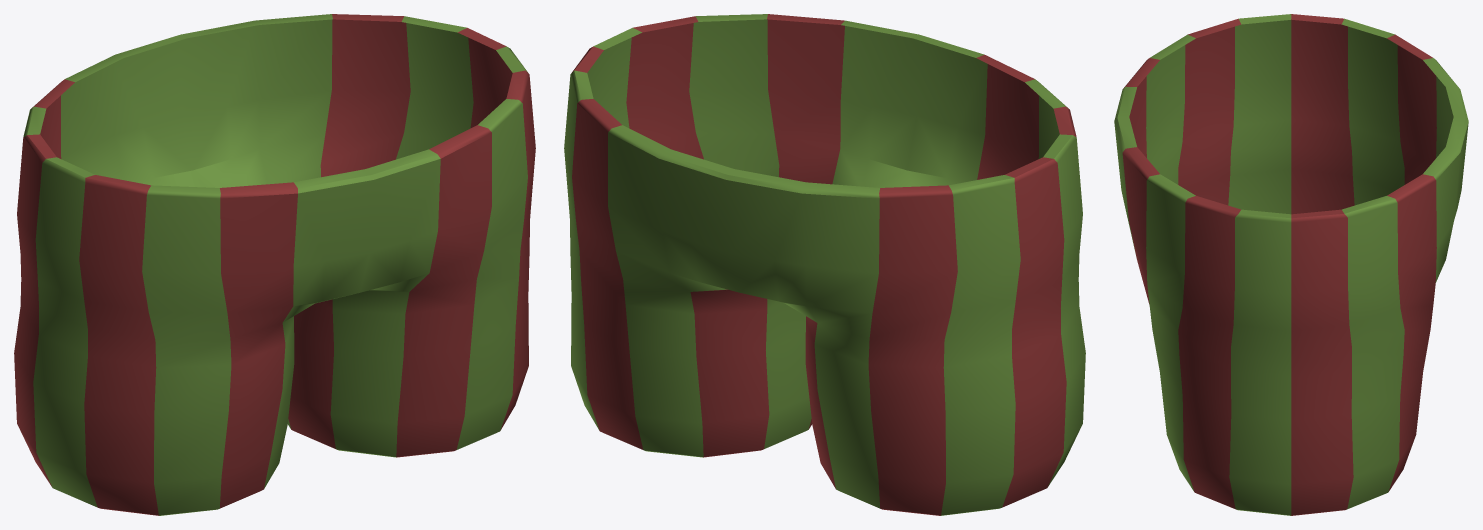
Rendered from Shorts_Striped_01_mesh.fbx.
3 renders of one model, left to right at view 1: azimuth 30°, elevation 25°; view 2: azimuth 150°, elevation 25°; view 3: azimuth 270°, elevation 25°, orthographic. The views are drawn at different scales.
Parts seen in each view (by area): view 1: Shorts_Striped_01_mesh; view 2: Shorts_Striped_01_mesh; view 3: Shorts_Striped_01_mesh.
Part boxes in pixels (x1,y1,x2,y2): Shorts_Striped_01_mesh: [14, 14, 535, 515]; Shorts_Striped_01_mesh: [564, 14, 1085, 515]; Shorts_Striped_01_mesh: [1114, 14, 1468, 515].
Size of the model in its own units: 29.58 by 19.53 by 20.66.
